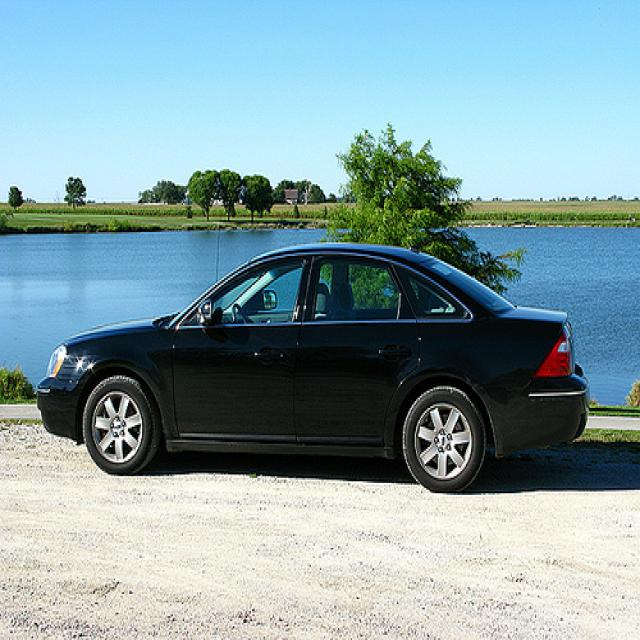Car: (25, 240, 595, 484)
